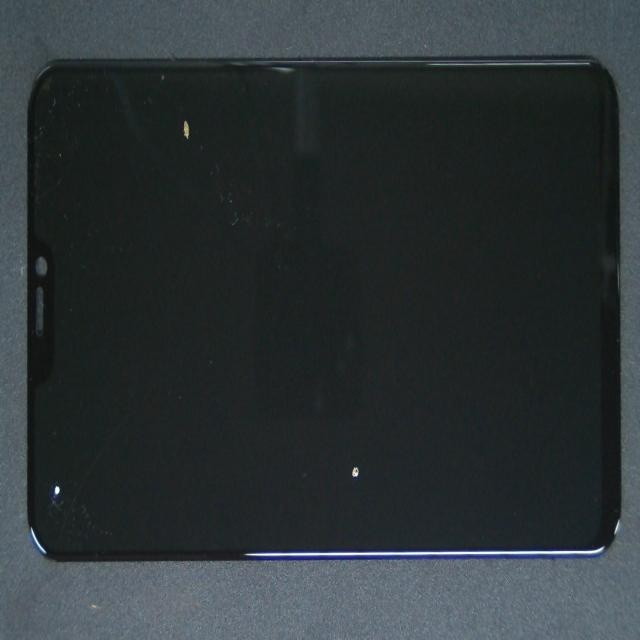stain: (152, 246, 524, 640), (0, 246, 87, 640), (61, 101, 277, 239)
